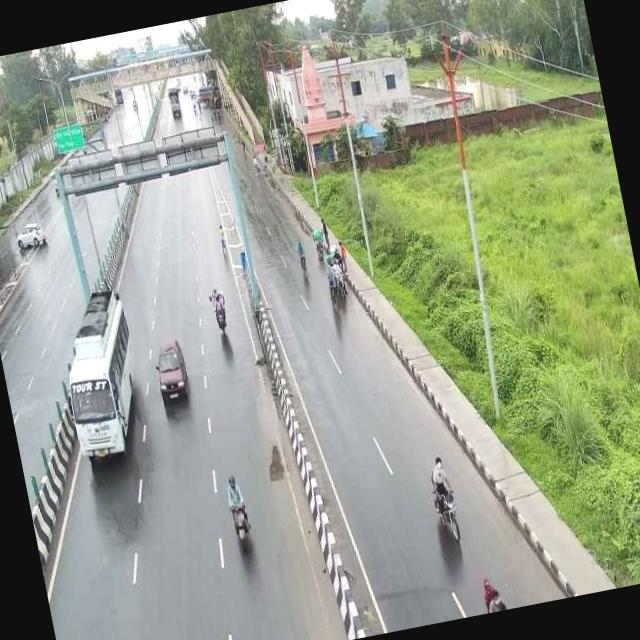car: (144, 331, 199, 416)
